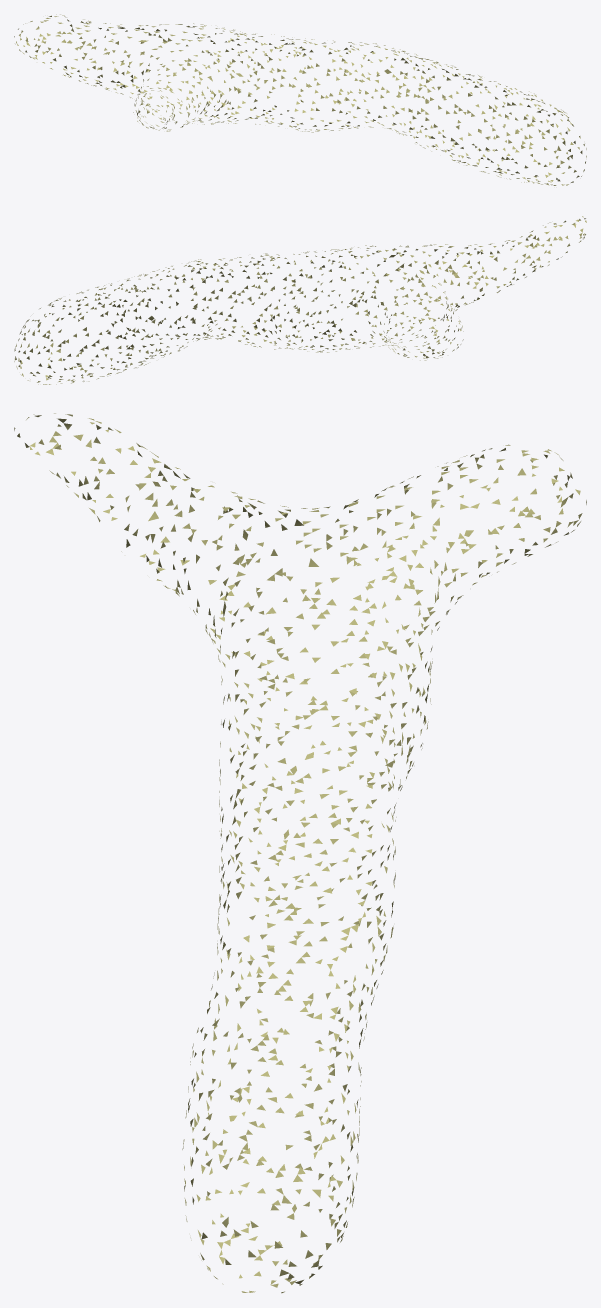
File: morph_009.glb
3 renders of one model, top to bottom at view 1: azimuth 30°, elevation 25°; view 2: azimuth 150°, elevation 25°; view 3: azimuth 270°, elevation 25°, orthographic. The views are drawn at different scales.
Size of the model in its own units: 88.56 by 39.91 by 46.55.
